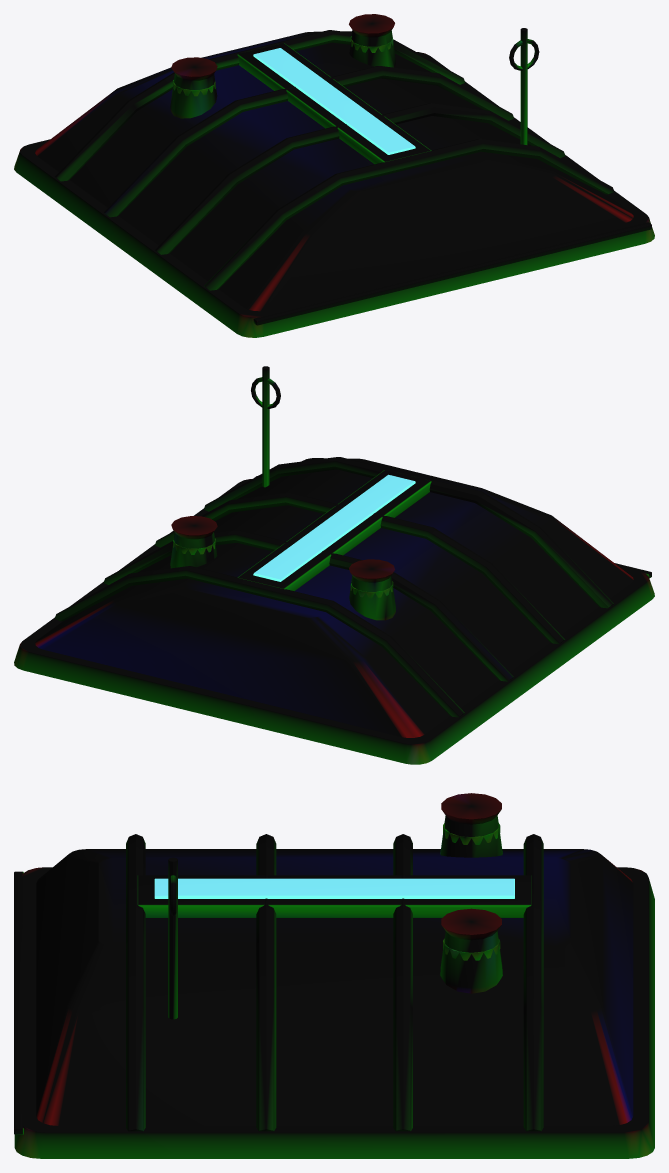
The model's file is hero_arctic_roof.glb.
3 renders of one model, top to bottom at view 1: azimuth 30°, elevation 25°; view 2: azimuth 150°, elevation 25°; view 3: azimuth 270°, elevation 25°, orthographic. The views are drawn at different scales.
Visible parts, largest first — view 1: HeroArcticRoof; view 2: HeroArcticRoof; view 3: HeroArcticRoof.
Part boxes in pixels (x1,y1,x2,y2): HeroArcticRoof: (14, 14, 654, 337); HeroArcticRoof: (14, 366, 654, 764); HeroArcticRoof: (14, 793, 654, 1158).
Bounding box in the file's own units: 10.3 × 4.4 × 10.31.
